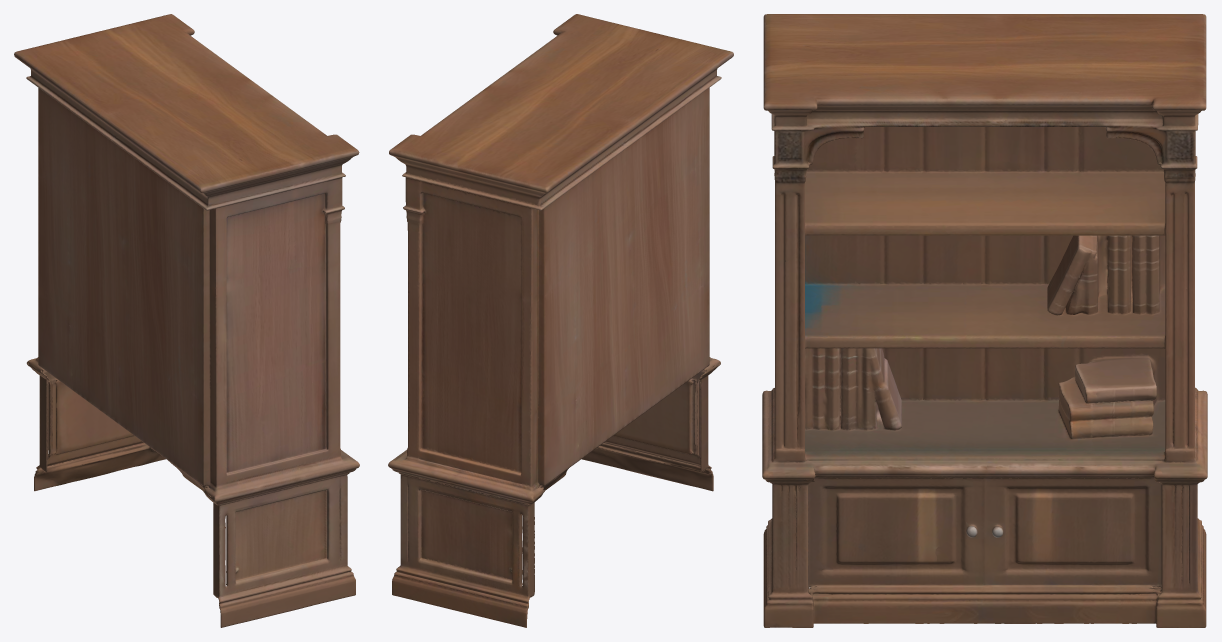
The model's file is detailed_realistic_model_antiquebookshelf_18.glb.
3 renders of one model, left to right at view 1: azimuth 30°, elevation 25°; view 2: azimuth 150°, elevation 25°; view 3: azimuth 270°, elevation 25°, orthographic. The views are drawn at different scales.
Visible parts, largest first — view 1: tripo_node_9668160e-9ff5-4d12-91a5-11aa178b91f7; view 2: tripo_node_9668160e-9ff5-4d12-91a5-11aa178b91f7; view 3: tripo_node_9668160e-9ff5-4d12-91a5-11aa178b91f7.
Boxes of the visible parts, left/top/right/bottom form: tripo_node_9668160e-9ff5-4d12-91a5-11aa178b91f7: left=14, top=14, right=359, bottom=627; tripo_node_9668160e-9ff5-4d12-91a5-11aa178b91f7: left=388, top=14, right=733, bottom=627; tripo_node_9668160e-9ff5-4d12-91a5-11aa178b91f7: left=762, top=14, right=1207, bottom=627.
Size of the model in its own units: 0.3738 by 1 by 0.7666.
Materials: 1 (1 with a texture image).
